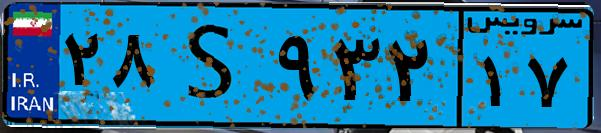1: (475, 38, 525, 113)
2: (385, 28, 445, 110), (57, 26, 110, 100)
3: (330, 28, 385, 110)
7: (525, 38, 570, 115)
8: (110, 28, 158, 98)
9: (270, 28, 330, 110)
S: (158, 12, 270, 120)
